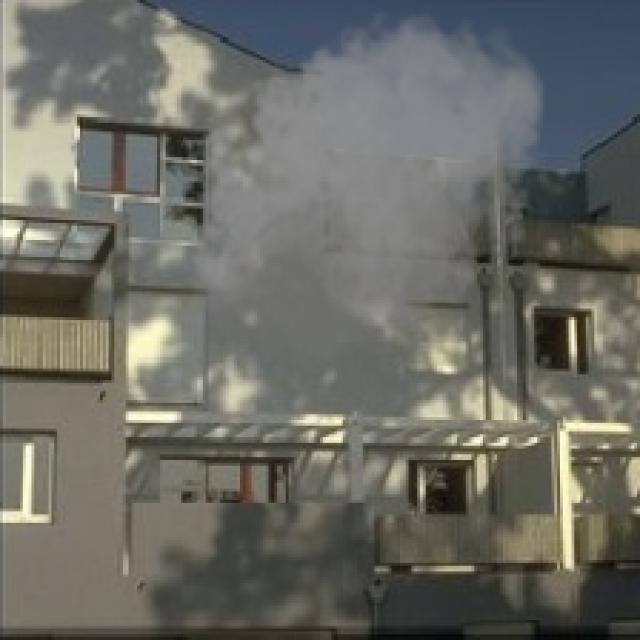smoke: (177, 3, 552, 383)
